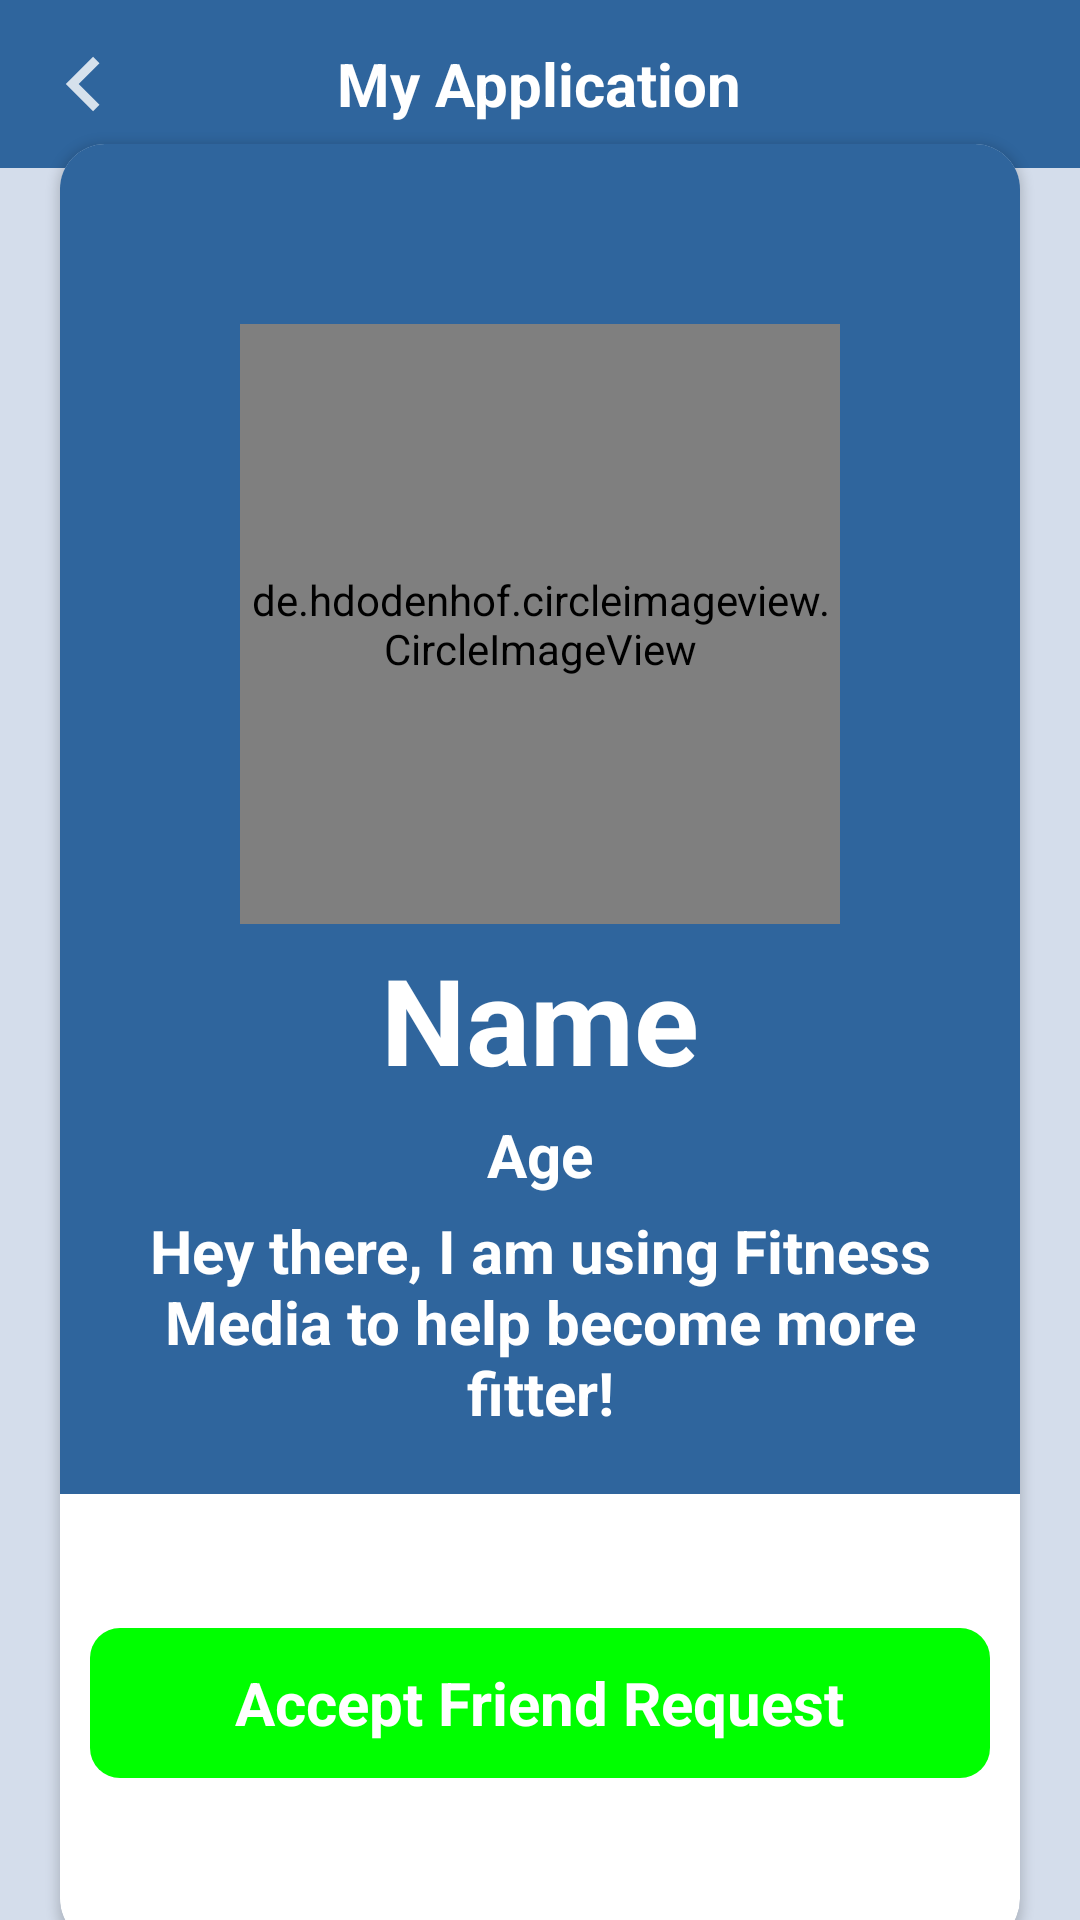

Screen size 1080*1920. Icon name, then its center in pixels as (x=x, y=y):
back arrow: (x=83, y=84)
